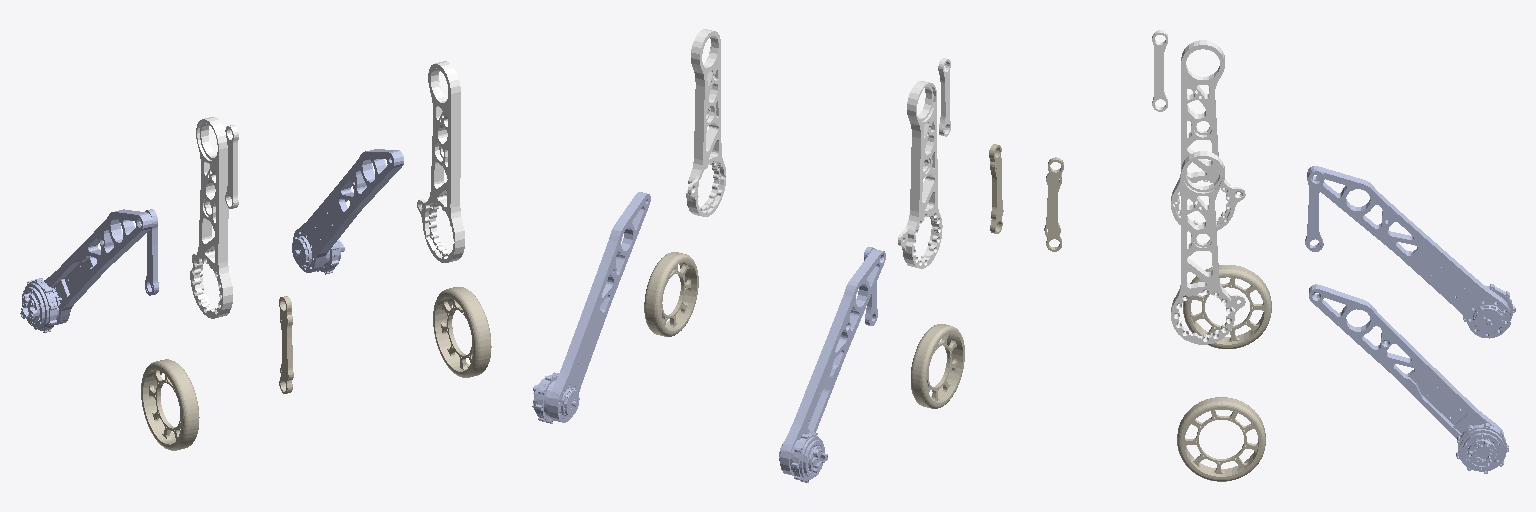
URDF robot description (urdf_V4.0):
<?xml version="1.0" encoding="utf-8"?>
<!-- This URDF was automatically created by SolidWorks to URDF Exporter! Originally created by Stephen Brawner (brawner@gmail.com) 
     Commit Version: 1.6.0-4-g7f85cfe  Build Version: 1.6.7995.38578
     For more information, please see http://wiki.ros.org/sw_urdf_exporter -->
<robot
  name="urdf_V4.0">
  <link
    name="base_link">
    <inertial>
      <origin
        xyz="0.0003 0.005 -0.053"
        rpy="0 0 0" />
      <mass
        value="10.8" />
      <inertia
        ixx="0.126"
        ixy="0.000264"
        ixz="-0.00049"
        iyy="0.178"
        iyz="0.004123"
        izz="0.255" />
    </inertial>
    <visual>
      <origin
        xyz="0 0 0"
        rpy="0 0 0" />
      <geometry>
        <mesh
          filename="../meshes/base_link.STL" />
      </geometry>
      <material
        name="">
        <color
          rgba="0.79216 0.81961 0.93333 1" />
      </material>
    </visual>
    <collision>
      <origin
        xyz="0 0 0"
        rpy="0 0 0" />
      <geometry>
        <mesh
          filename="../meshes/base_link.STL" />
      </geometry>
    </collision>
  </link>
  <link
    name="L_link1">
    <inertial>
      <origin
        xyz="0.062 -0.006 -0.003"
        rpy="0 0 0" />
      <mass
        value="0.326" />
      <inertia
        ixx="0.000518"
        ixy="0.00073"
        ixz="-8.1E-05"
        iyy="0.003183"
        iyz="-1.8E-05"
        izz="0.003674" />
    </inertial>
    <visual>
      <origin
        xyz="0 0 0"
        rpy="0 0 0" />
      <geometry>
        <mesh
          filename="../meshes/L_link1.STL" />
      </geometry>
      <material
        name="">
        <color
          rgba="1 1 1 1" />
      </material>
    </visual>
    <collision>
      <origin
        xyz="0 0 0"
        rpy="0 0 0" />
      <geometry>
        <mesh
          filename="../meshes/L_link1.STL" />
      </geometry>
    </collision>
  </link>
  <joint
    name="L_joint1"
    type="continuous">
    <origin
      xyz="0.183798094345848 0 -0.000836967642744012"
      rpy="1.57535002938105 0 1.5707963267949" />
    <parent
      link="base_link" />
    <child
      link="L_link1" />
    <axis
      xyz="0 0 -1" />
    <limit
      lower="-3.14"
      upper="3.14"
      effort="100"
      velocity="1" />
  </joint>
  <link
    name="L_link2">
    <inertial>
      <origin
        xyz="0.15963 8.3413E-05 0.011927"
        rpy="0 0 0" />
      <mass
        value="0.45" />
      <inertia
        ixx="0.000167"
        ixy="8.4E-05"
        ixz="0.000191"
        iyy="0.0049"
        iyz="0"
        izz="0.00496" />
    </inertial>
    <visual>
      <origin
        xyz="0 0 0"
        rpy="0 0 0" />
      <geometry>
        <mesh
          filename="../meshes/L_link2.STL" />
      </geometry>
      <material
        name="">
        <color
          rgba="0.79216 0.81961 0.93333 1" />
      </material>
    </visual>
    <collision>
      <origin
        xyz="0 0 0"
        rpy="0 0 0" />
      <geometry>
        <mesh
          filename="../meshes/L_link2.STL" />
      </geometry>
    </collision>
  </link>
  <joint
    name="L_joint2"
    type="continuous">
    <origin
      xyz="0.21 0 0"
      rpy="0 0 -2.404" />
    <parent
      link="L_link1" />
    <child
      link="L_link2" />
    <axis
      xyz="0 0 1" />
    <limit
      lower="-3.14"
      upper="3.14"
      effort="100"
      velocity="1" />
  </joint>
  <link
    name="L_link3">
    <inertial>
      <origin
        xyz="0 0 0.020472"
        rpy="0 0 0" />
      <mass
        value="0.2" />
      <inertia
        ixx="0.000296"
        ixy="0"
        ixz="0"
        iyy="0.000296"
        iyz="0"
        izz="0.000575" />
    </inertial>
    <visual>
      <origin
        xyz="0 0 0"
        rpy="0 0 0" />
      <geometry>
        <mesh
          filename="../meshes/L_link3.STL" />
      </geometry>
      <material
        name="">
        <color
          rgba="0.84314 0.81569 0.75294 1" />
      </material>
    </visual>
    <collision>
      <origin
        xyz="0 0 0"
        rpy="0 0 0" />
      <geometry>
        <mesh
          filename="../meshes/L_link3.STL" />
      </geometry>
    </collision>
  </link>
  <joint
    name="L_joint3"
    type="continuous">
    <origin
      xyz="0.25 0 0.015"
      rpy="0 0 -1.5708" />
    <parent
      link="L_link2" />
    <child
      link="L_link3" />
    <axis
      xyz="0 0 1" />
    <limit
      lower="-3.14"
      upper="3.14"
      effort="100"
      velocity="1" />
  </joint>
  <link
    name="R_link1">
    <inertial>
      <origin
        xyz="0.062 -0.006 0.003"
        rpy="0 0 0" />
      <mass
        value="0.326" />
      <inertia
        ixx="0.000518"
        ixy="0.00073"
        ixz="8.1E-05"
        iyy="0.003183"
        iyz="1.8E-05"
        izz="0.003674" />
    </inertial>
    <visual>
      <origin
        xyz="0 0 0"
        rpy="0 0 0" />
      <geometry>
        <mesh
          filename="../meshes/R_link1.STL" />
      </geometry>
      <material
        name="">
        <color
          rgba="1 1 1 1" />
      </material>
    </visual>
    <collision>
      <origin
        xyz="0 0 0"
        rpy="0 0 0" />
      <geometry>
        <mesh
          filename="../meshes/R_link1.STL" />
      </geometry>
    </collision>
  </link>
  <joint
    name="R_joint1"
    type="continuous">
    <origin
      xyz="-0.182798104713933 0 0.000832413955891113"
      rpy="1.57535002938105 0 1.5707963267949" />
    <parent
      link="base_link" />
    <child
      link="R_link1" />
    <axis
      xyz="0 0 1" />
    <limit
      lower="-3.14"
      upper="3.14"
      effort="100"
      velocity="1" />
  </joint>
  <link
    name="R_link2">
    <inertial>
      <origin
        xyz="0.15963 8.3412E-05 -0.011927"
        rpy="0 0 0" />
      <mass
        value="0.45" />
      <inertia
        ixx="0.000167"
        ixy="8.4E-05"
        ixz="-0.000192"
        iyy="0.0049"
        iyz="0"
        izz="0.00496" />
    </inertial>
    <visual>
      <origin
        xyz="0 0 0"
        rpy="0 0 0" />
      <geometry>
        <mesh
          filename="../meshes/R_link2.STL" />
      </geometry>
      <material
        name="">
        <color
          rgba="0.79216 0.81961 0.93333 1" />
      </material>
    </visual>
    <collision>
      <origin
        xyz="0 0 0"
        rpy="0 0 0" />
      <geometry>
        <mesh
          filename="../meshes/R_link2.STL" />
      </geometry>
    </collision>
  </link>
  <joint
    name="R_joint2"
    type="continuous">
    <origin
      xyz="0.21 0 0"
      rpy="0 0 -2.3573" />
    <parent
      link="R_link1" />
    <child
      link="R_link2" />
    <axis
      xyz="0 0 -1" />
    <limit
      lower="-3.14"
      upper="3.14"
      effort="100"
      velocity="1" />
  </joint>
  <link
    name="R_link3">
    <inertial>
      <origin
        xyz="0 0 -0.020472"
        rpy="0 0 0" />
      <mass
        value="0.2" />
      <inertia
        ixx="0.000296"
        ixy="0"
        ixz="0"
        iyy="0.000296"
        iyz="0"
        izz="0.000575" />
    </inertial>
    <visual>
      <origin
        xyz="0 0 0"
        rpy="0 0 0" />
      <geometry>
        <mesh
          filename="../meshes/R_link3.STL" />
      </geometry>
      <material
        name="">
        <color
          rgba="0.84314 0.81569 0.75294 1" />
      </material>
    </visual>
    <collision>
      <origin
        xyz="0 0 0"
        rpy="0 0 0" />
      <geometry>
        <mesh
          filename="../meshes/R_link3.STL" />
      </geometry>
    </collision>
  </link>
  <joint
    name="R_joint3"
    type="continuous">
    <origin
      xyz="0.249999999999996 0 -0.0150000000000006"
      rpy="0 0 3.14159265358979" />
    <parent
      link="R_link2" />
    <child
      link="R_link3" />
    <axis
      xyz="0 0 -1" />
    <limit
      lower="-3.14"
      upper="3.14"
      effort="100"
      velocity="1" />
  </joint>
</robot>

--- Facts derived from the render (not from the file) ---
3 views of the same robot in one strip: view 1: azimuth 30°, elevation 25°; view 2: azimuth 150°, elevation 25°; view 3: azimuth 270°, elevation 25° (orthographic).
Model urdf_V4.0 with 7 links and 6 joints (6 continuous), rooted at base_link, posed all joints at 0.
Visible links, largest first — view 1: L_link1, R_link2, L_link2, R_link1, L_link3, R_link3; view 2: L_link2, R_link2, L_link1, R_link1, R_link3, L_link3; view 3: L_link2, R_link2, L_link1, R_link1, L_link3, R_link3.
Link boxes in pixels (box(x1,y1,x2,y2)): L_link1: box(225, 61, 464, 262); R_link2: box(20, 209, 157, 332); L_link2: box(145, 149, 403, 294); R_link1: box(190, 117, 238, 318); L_link3: box(279, 287, 491, 380); R_link3: box(141, 311, 292, 450); L_link2: box(532, 192, 877, 423); R_link2: box(779, 249, 885, 482); L_link1: box(686, 29, 950, 216); R_link1: box(898, 59, 949, 268); R_link3: box(911, 157, 1002, 408); L_link3: box(644, 144, 1003, 336); L_link2: box(1305, 169, 1508, 473); R_link2: box(1307, 166, 1515, 338); L_link1: box(1152, 30, 1245, 344); R_link1: box(1152, 30, 1245, 233); L_link3: box(1044, 157, 1265, 481); R_link3: box(1046, 173, 1271, 348).
Bounding box of the posed robot: 0.4673 × 0.6379 × 0.4912 m (x, y, z).
6 mesh visuals loaded from 7 distinct referenced files (6 binary STL); not drawn: 1 (file found but could not be loaded).
